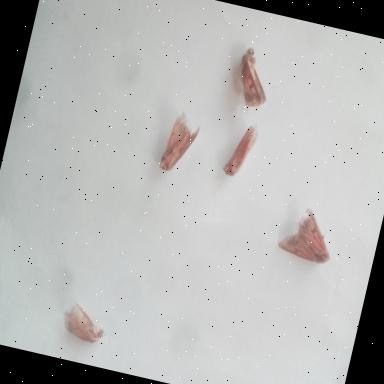abw: (273, 200, 344, 274), (155, 106, 205, 180), (228, 43, 278, 116), (218, 116, 264, 186), (57, 297, 113, 350)
